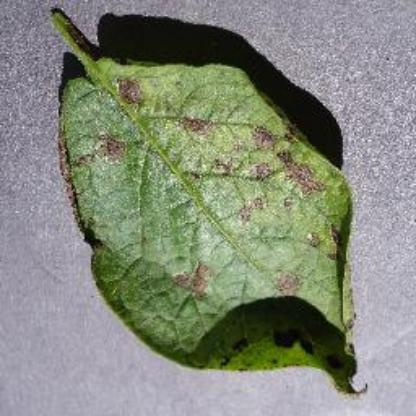Early-Blight: (36, 9, 380, 396)
